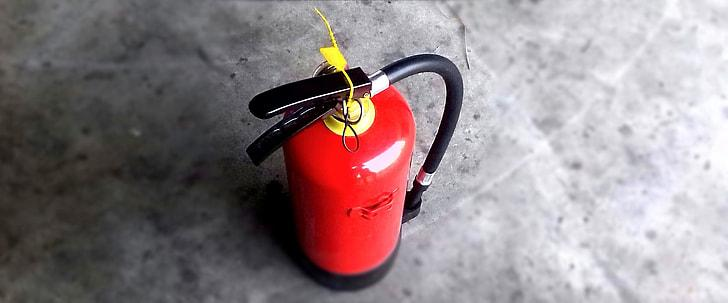Fire Extinguisher: (224, 18, 465, 298)
